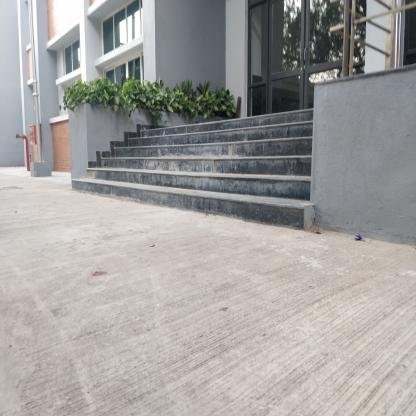stairs: (105, 133, 310, 223)
